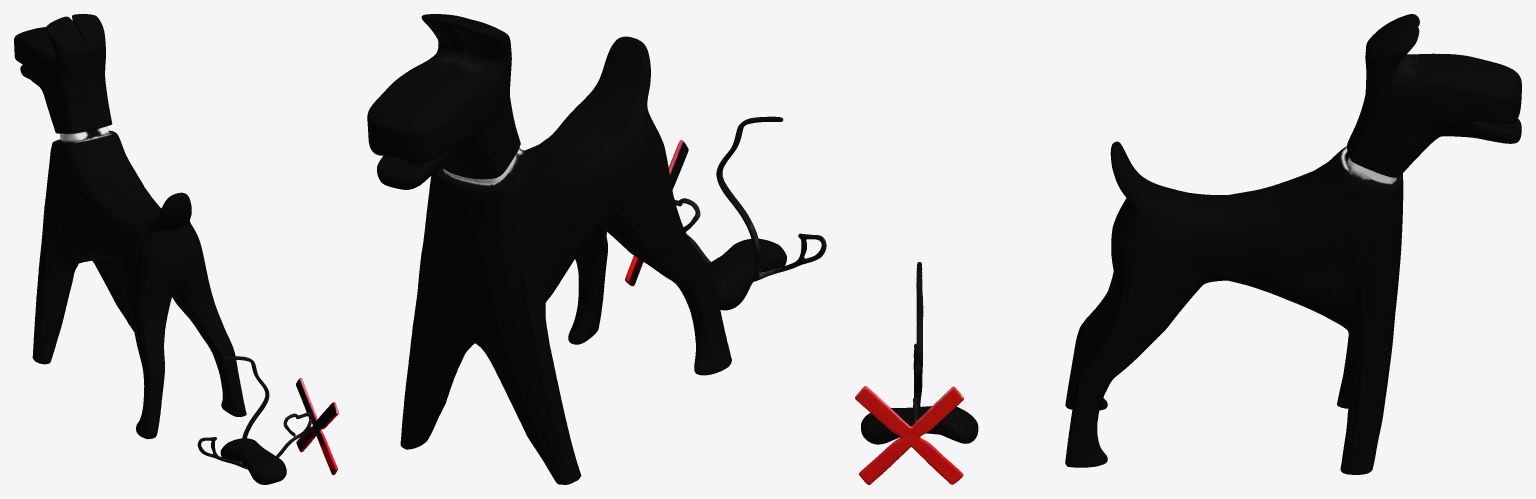
Rendered from Ambiente.fbx.
3 renders of one model, left to right at view 1: azimuth 30°, elevation 25°; view 2: azimuth 150°, elevation 25°; view 3: azimuth 270°, elevation 25°, orthographic. The views are drawn at different scales.
Parts seen in each view (by area): view 1: tripo_node_f66e38f6; view 2: tripo_node_f66e38f6; view 3: tripo_node_f66e38f6.
Part boxes in pixels (x1,y1,x2,y2): tripo_node_f66e38f6: (14, 14, 338, 484); tripo_node_f66e38f6: (367, 14, 826, 484); tripo_node_f66e38f6: (855, 14, 1521, 484).
Bounding box in the file's own units: 27.2 × 70.07 × 100.
1 material, 1 textured.
